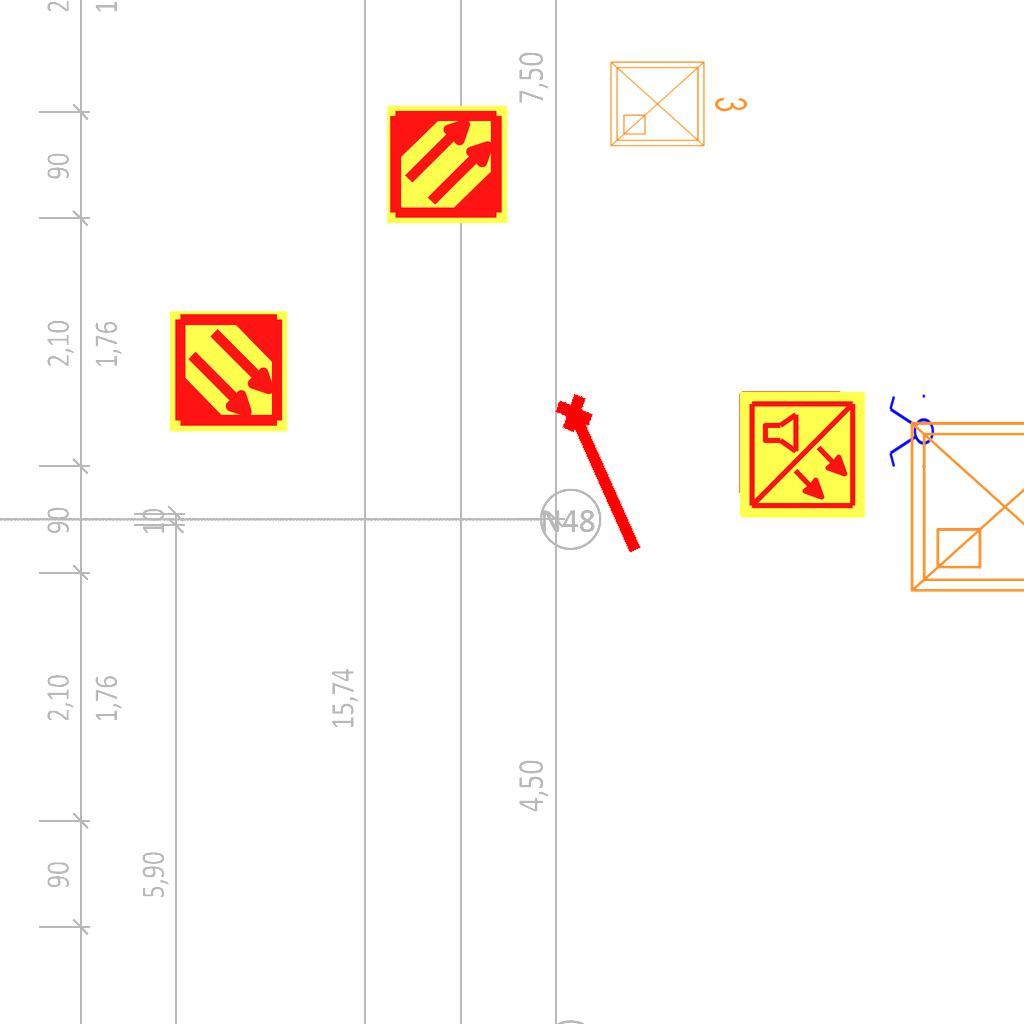ASR_Ansaugoeffnung: (547, 384, 661, 564)
ASR_Ansaugrauchmelder: (166, 309, 291, 434), (385, 102, 510, 227)
Einbaudownlights_LED_Konferenzraeume: (896, 399, 1024, 607), (603, 50, 753, 154)
OKW_Multisensormelder_(Kombination_optischer_Rauch-Kahlenmonoxid_Waerme-Melder): (736, 389, 868, 521)
Serienschalter: (887, 390, 935, 474)
